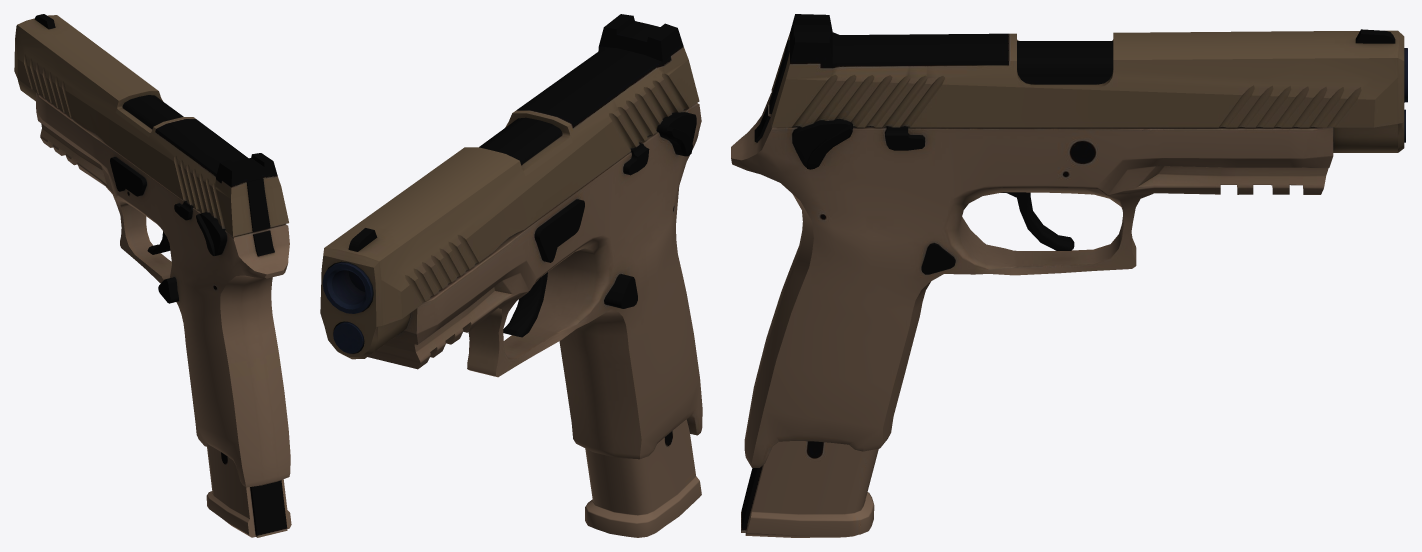
The picture shows the model from 3 angles, left to right: view 1: azimuth 30°, elevation 25°; view 2: azimuth 150°, elevation 25°; view 3: azimuth 270°, elevation 25°; orthographic projection. The views are drawn at different scales.
Parts seen in each view (by area): view 1: M17, slide_piece (×2), mag_piece; view 2: M17, slide_piece (×2), mag_piece; view 3: M17, slide_piece (×2), mag_piece.
Part boxes in pixels (x1=…): M17: x1=36, y1=93, x2=290, y2=487; slide_piece (×2): x1=14, y1=14, x2=288, y2=255; mag_piece: x1=206, y1=446, x2=291, y2=537; M17: x1=368, y1=103, x2=702, y2=459; slide_piece (×2): x1=320, y1=14, x2=699, y2=359; mag_piece: x1=585, y1=419, x2=701, y2=537; M17: x1=731, y1=93, x2=1333, y2=467; slide_piece (×2): x1=769, y1=14, x2=1407, y2=169; mag_piece: x1=741, y1=441, x2=878, y2=537.
Size of the model in its own units: 20.55 by 95.91 by 119.
Materials: 3 (3 with a texture image).
